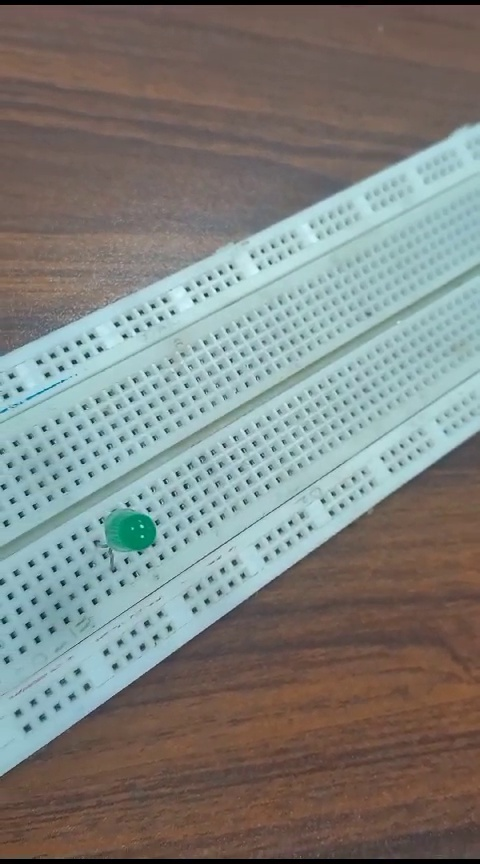LED: (103, 504, 162, 561)
